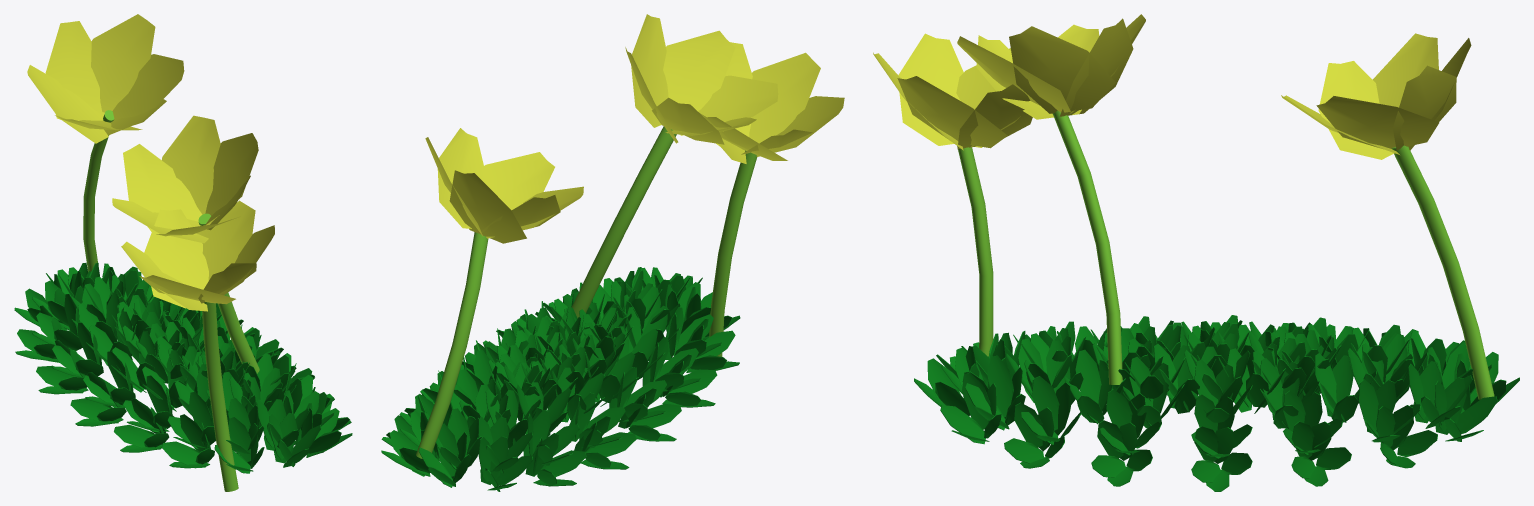
File: arctic poppy.fbx
3 renders of one model, left to right at view 1: azimuth 30°, elevation 25°; view 2: azimuth 150°, elevation 25°; view 3: azimuth 270°, elevation 25°, orthographic. The views are drawn at different scales.
Visible parts, largest first — view 1: Plane_4, Plane_14, Plane_15, Plane_8, Plane_3, Cylinder_4, Plane_16, Plane_5, Plane_9, Plane_2, Cylinder, Cylinder_6 (+29 smaller); view 2: Plane_17, Plane_11, Cylinder, Cylinder_6, Plane_3, Cylinder_4, Plane_16, Plane_6, Plane_18, Plane_5, Plane_14, Plane_12 (+19 smaller); view 3: Plane_16, Cylinder, Cylinder_6, Plane_5, Plane_10, Plane_12, Cylinder_4, Plane, Plane_2, Plane_4, Plane_15, Plane_9 (+14 smaller).
Part boxes in pixels (left/top/right/bottom): Plane_4: left=91, top=14, right=155, bottom=112; Plane_14: left=123, top=144, right=202, bottom=231; Plane_15: left=162, top=115, right=220, bottom=214; Plane_8: left=144, top=209, right=208, bottom=308; Plane_3: left=45, top=21, right=104, bottom=119; Cylinder_4: left=202, top=302, right=238, bottom=491; Plane_16: left=205, top=133, right=258, bottom=215; Plane_5: left=112, top=54, right=184, bottom=120; Plane_9: left=196, top=200, right=255, bottom=280; Plane_2: left=27, top=65, right=108, bottom=143; Cylinder: left=83, top=110, right=114, bottom=272; Cylinder_6: left=198, top=213, right=259, bottom=373; Plane_17: left=663, top=30, right=735, bottom=111; Plane_11: left=749, top=52, right=820, bottom=143; Cylinder: left=416, top=232, right=488, bottom=458; Cylinder_6: left=571, top=126, right=676, bottom=318; Plane_3: left=449, top=170, right=526, bottom=243; Cylinder_4: left=709, top=150, right=757, bottom=356; Plane_16: left=631, top=14, right=668, bottom=127; Plane_6: left=484, top=152, right=554, bottom=210; Plane_18: left=680, top=75, right=778, bottom=135; Plane_5: left=437, top=128, right=487, bottom=228; Plane_14: left=652, top=97, right=724, bottom=144; Plane_12: left=756, top=96, right=844, bottom=156; Plane_16: left=1009, top=26, right=1115, bottom=113; Cylinder: left=1392, top=145, right=1494, bottom=399; Cylinder_6: left=1053, top=110, right=1122, bottom=384; Plane_5: left=1316, top=96, right=1439, bottom=148; Plane_10: left=897, top=76, right=1007, bottom=148; Plane_12: left=898, top=33, right=963, bottom=145; Cylinder_4: left=957, top=146, right=993, bottom=356; Plane: left=1318, top=61, right=1394, bottom=159; Plane_2: left=1372, top=33, right=1438, bottom=107; Plane_4: left=1392, top=65, right=1456, bottom=150; Plane_15: left=1059, top=18, right=1133, bottom=116; Plane_9: left=957, top=84, right=1032, bottom=149.
Bounding box in the file's own units: 111 × 135 × 193.
